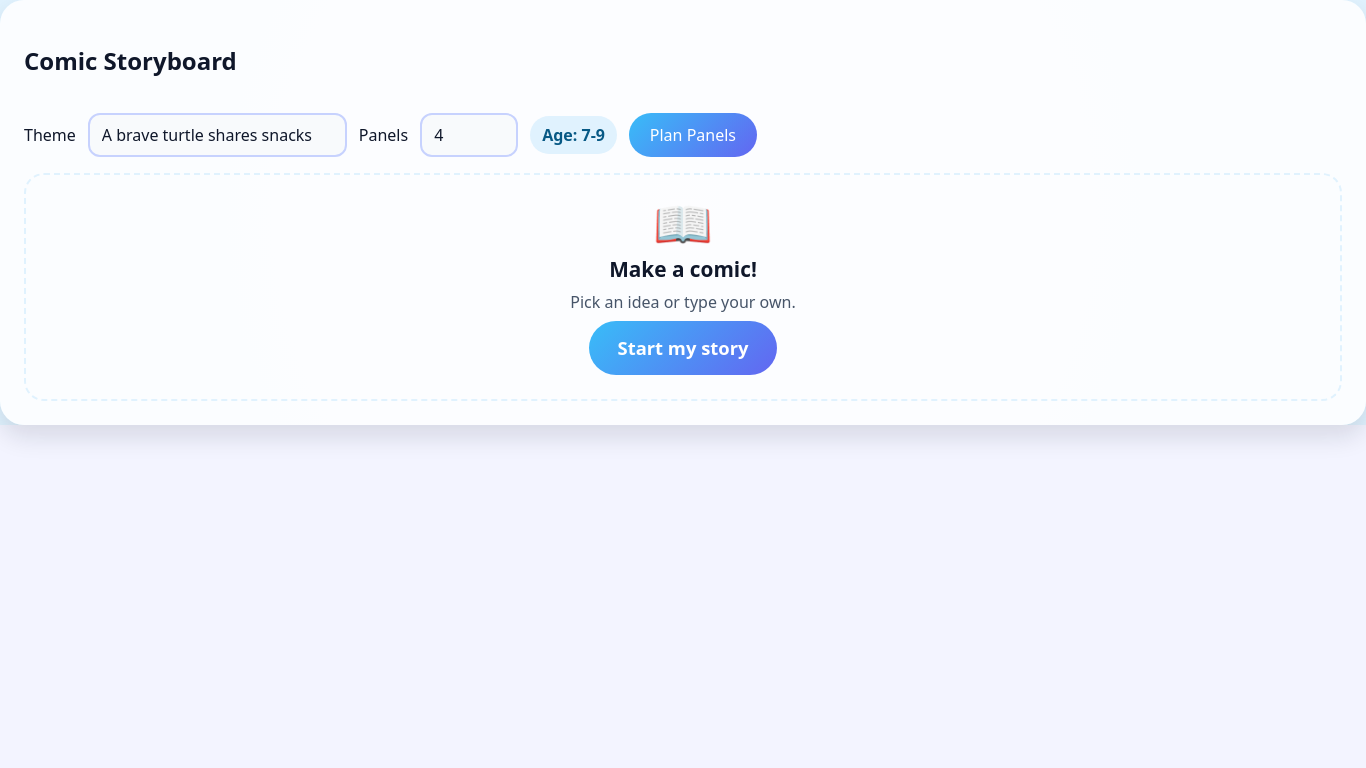
Test: ComicBoard artwork rendering › clears stale panels when a later response is blocked
Click the button "Plan Panels".
click(693, 135)  # box [629,113,757,157]
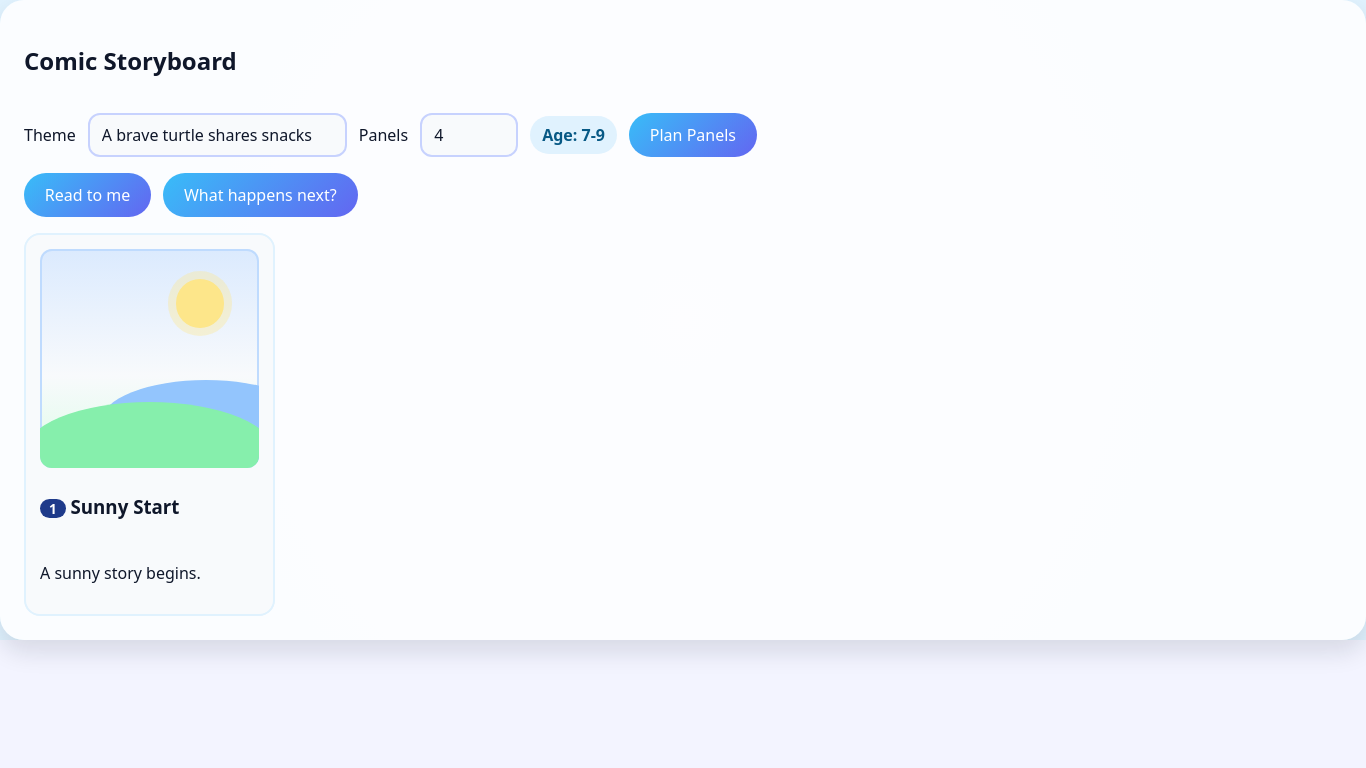
Expected: the heading "1 Sunny Start" is shown, [40,494,180,519]
Click the button "Plan Panels".
click(693, 135)  # box [629,113,757,157]
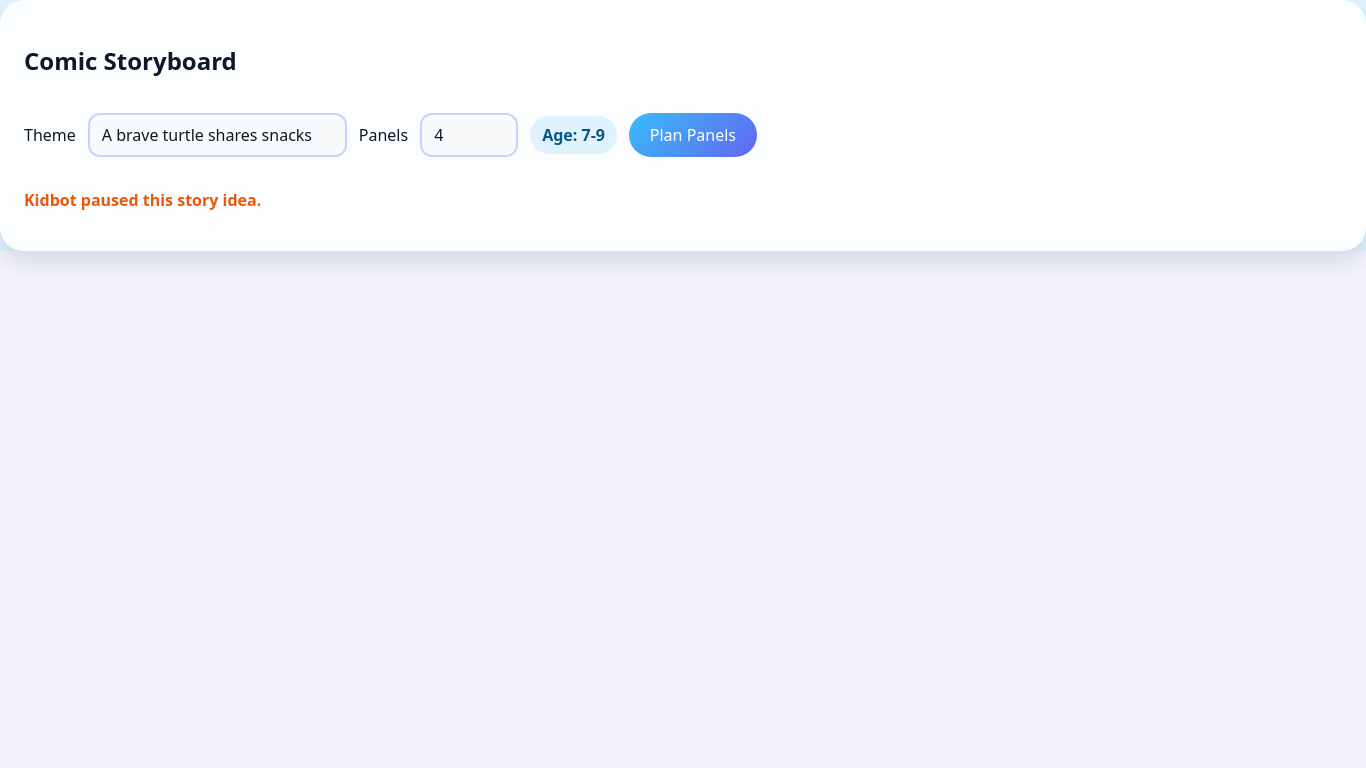
Expected: the heading "Sunny Start" is gone
